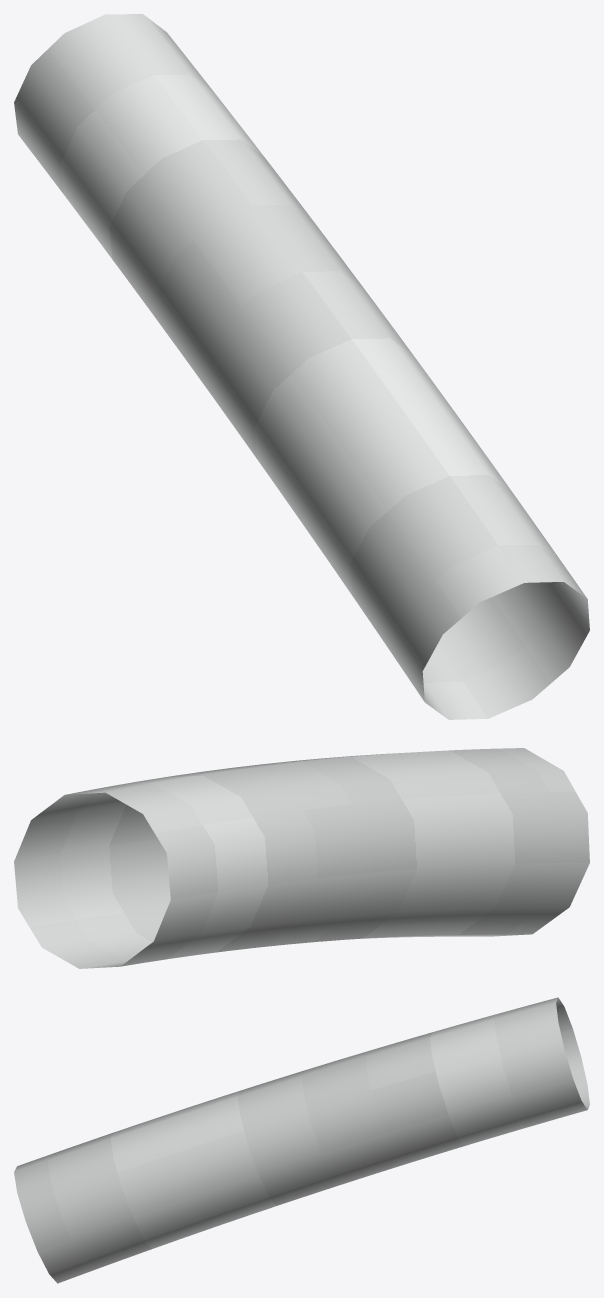
The model's file is luminairearm_caltrans15ftdouble_c3.obj.
3 views of the same model, one above another, from view 1: azimuth 30°, elevation 25°; view 2: azimuth 150°, elevation 25°; view 3: azimuth 270°, elevation 25° (orthographic). The views are drawn at different scales.
Visible parts, largest first — view 1: luminairearm_caltrans15ftdouble_c3; view 2: luminairearm_caltrans15ftdouble_c3; view 3: luminairearm_caltrans15ftdouble_c3.
Boxes of the visible parts, x1,y1,x2,y2 form: luminairearm_caltrans15ftdouble_c3: (14,14,589,719); luminairearm_caltrans15ftdouble_c3: (14,748,589,968); luminairearm_caltrans15ftdouble_c3: (14,997,589,1283).
Bounding box in the file's own units: 0.2333 × 0.5655 × 1.08.
